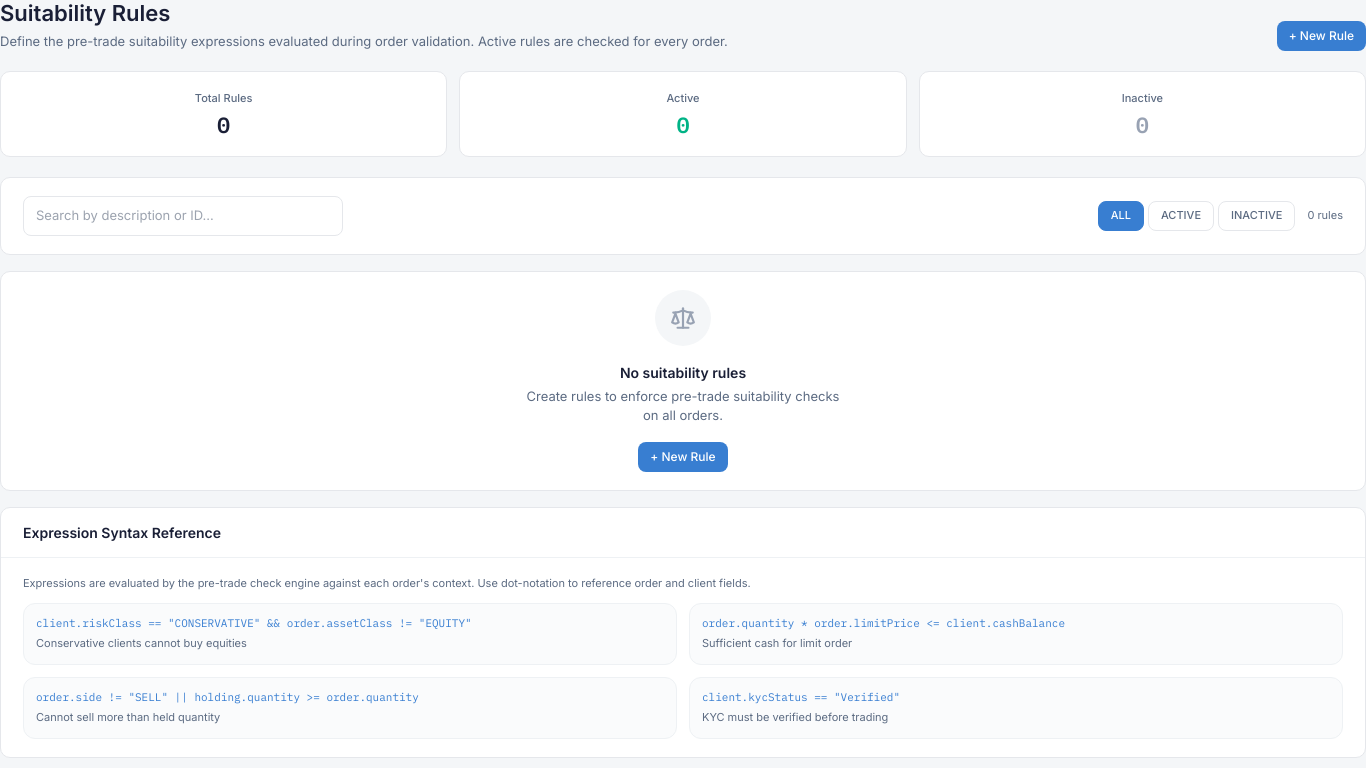
Scenario: SuitabilityRules extra tests › opens new rule form when New Rule is clicked
Click the 1st button "+ New Rule" at [1321, 36], box [1277,21,1365,51]
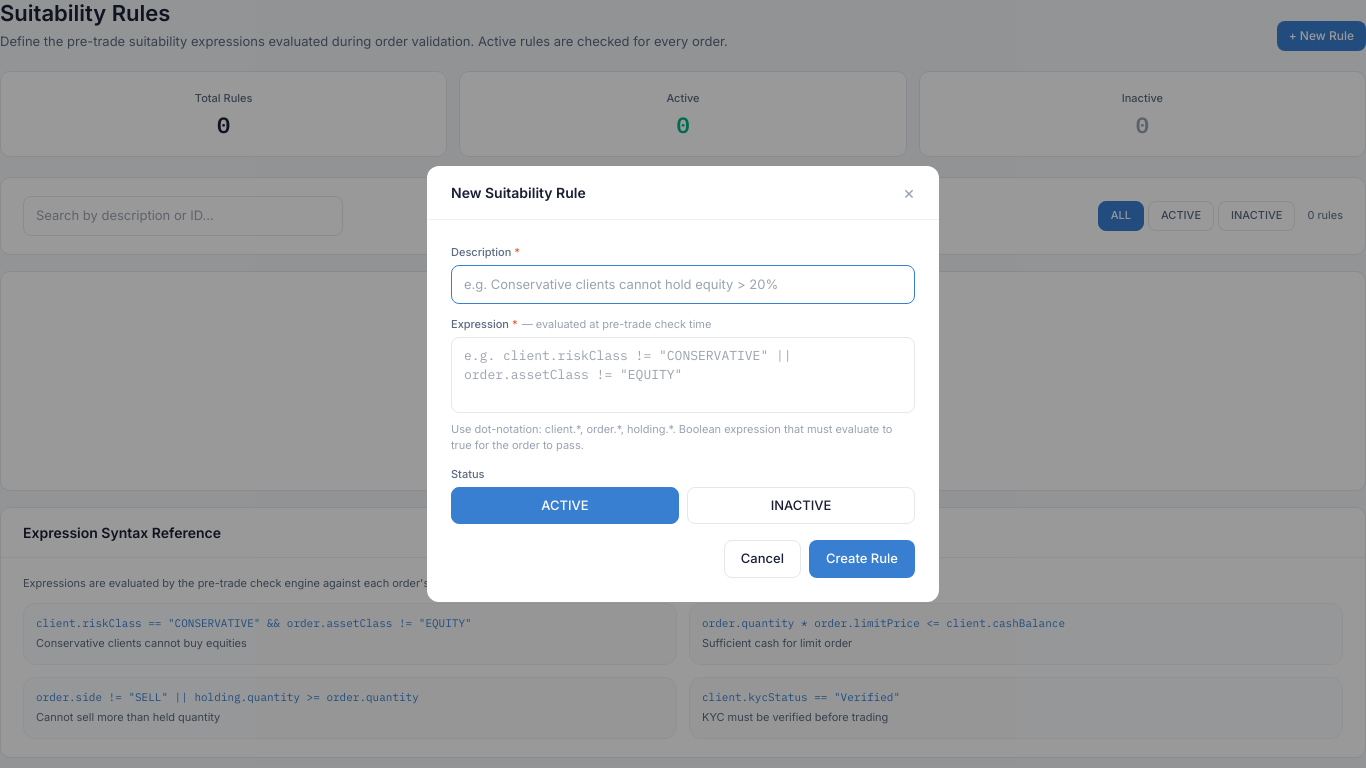
Expected: the heading "New Suitability Rule" is shown, [451,182,586,203]
